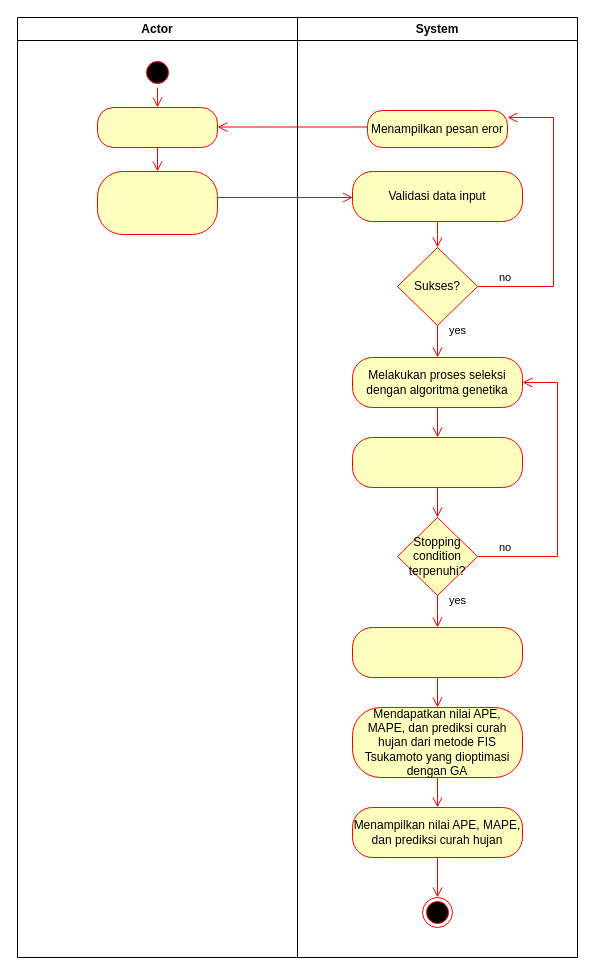
This 595x975 diagram has some shape labels left out. The centre of each missing label's shape, as x and y in pixels:
Evaluasi tingkat eror kromosom dengan FIS Tsukamoto: [437,462]
Input parameter-parameter GA: [157,127]
Klik tombol "Predict using FIS & GA ": [157,202]
Mendapatkan nilai APE, MAPE, dan prediksi curah hujan dari metode FIS Tsukamoto: [437,652]
